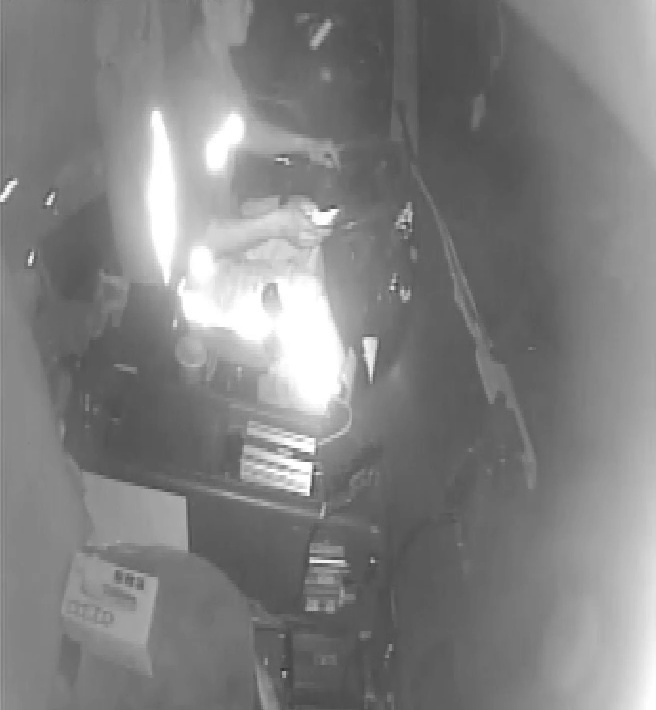cellphone: (288, 202, 344, 236)
